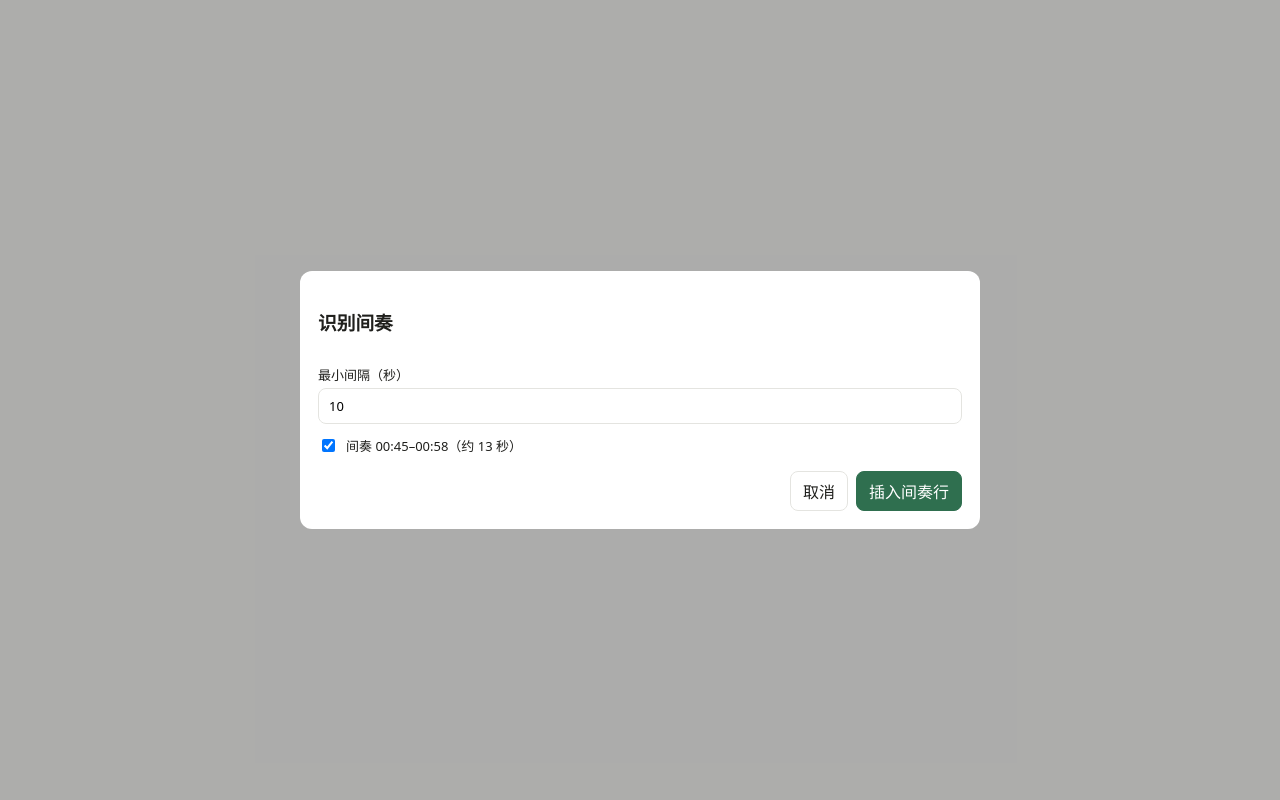
Test: InterludeDialog › 调低最小间隔后出现 8 秒候选
Replace the text in the number field with "6" at (640, 406), box [318,388,962,424]
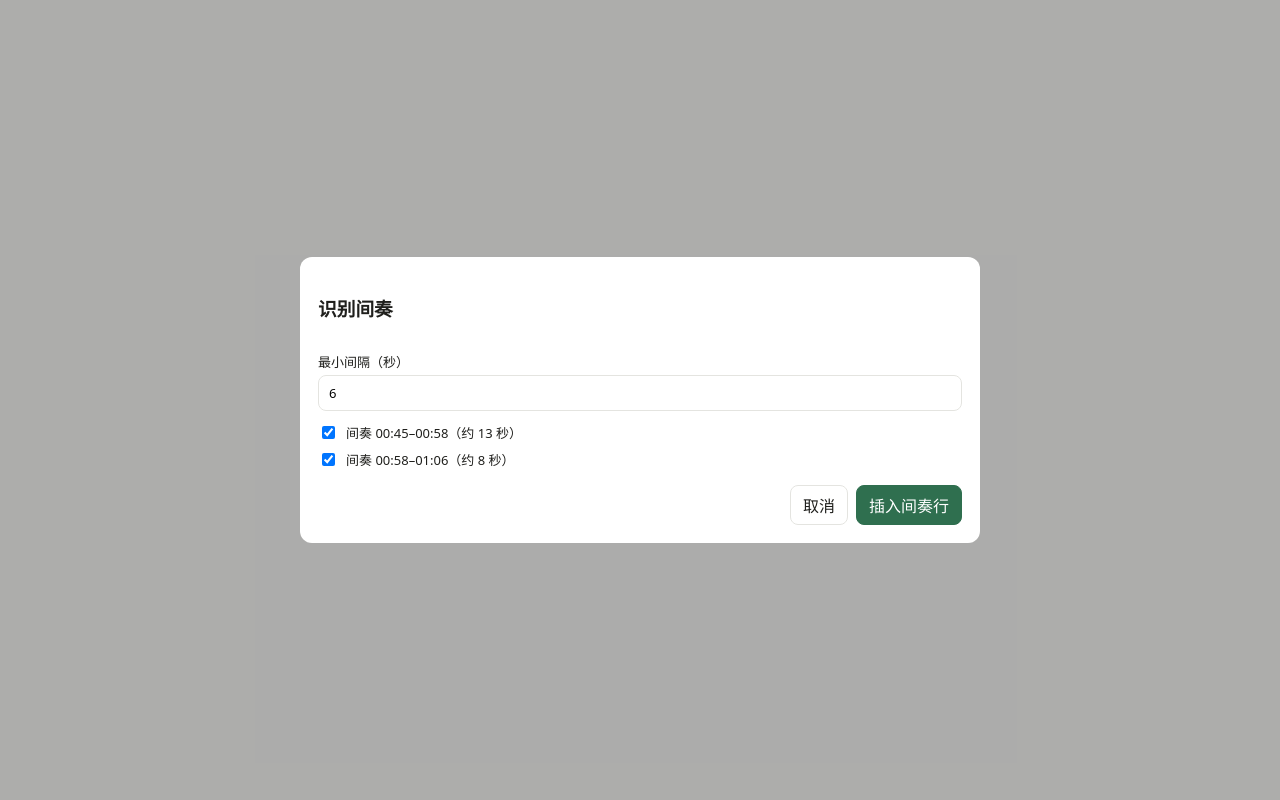
Result: the text "间奏 00:58–01:06（约 8 秒）" is shown at [346,450,515,469]
